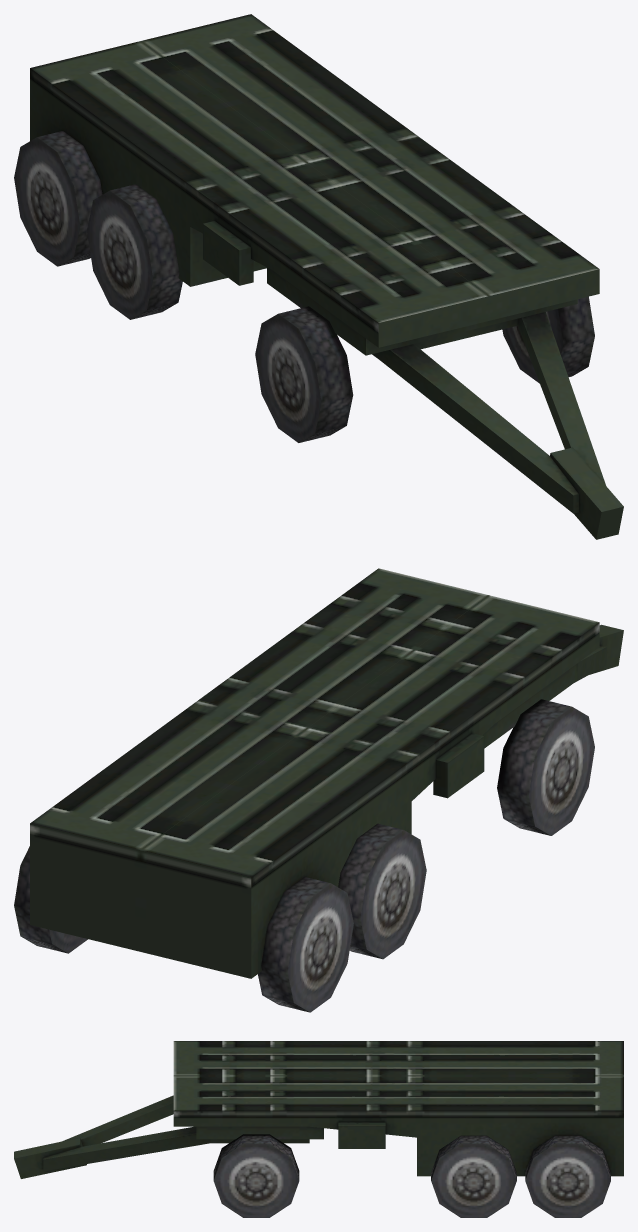
Rendered from Trailer.DAE.
3 renders of one model, top to bottom at view 1: azimuth 30°, elevation 25°; view 2: azimuth 150°, elevation 25°; view 3: azimuth 270°, elevation 25°, orthographic. The views are drawn at different scales.
Parts seen in each view (by area): view 1: _1530_Trailer; view 2: _1530_Trailer; view 3: _1530_Trailer.
Boxes of the visible parts, <box> form: _1530_Trailer: <box>14,14,623,539</box>; _1530_Trailer: <box>14,568,623,1012</box>; _1530_Trailer: <box>14,1041,623,1217</box>.
Size of the model in its own units: 116 by 62.69 by 347.
Materials: 1 (1 with a texture image).
